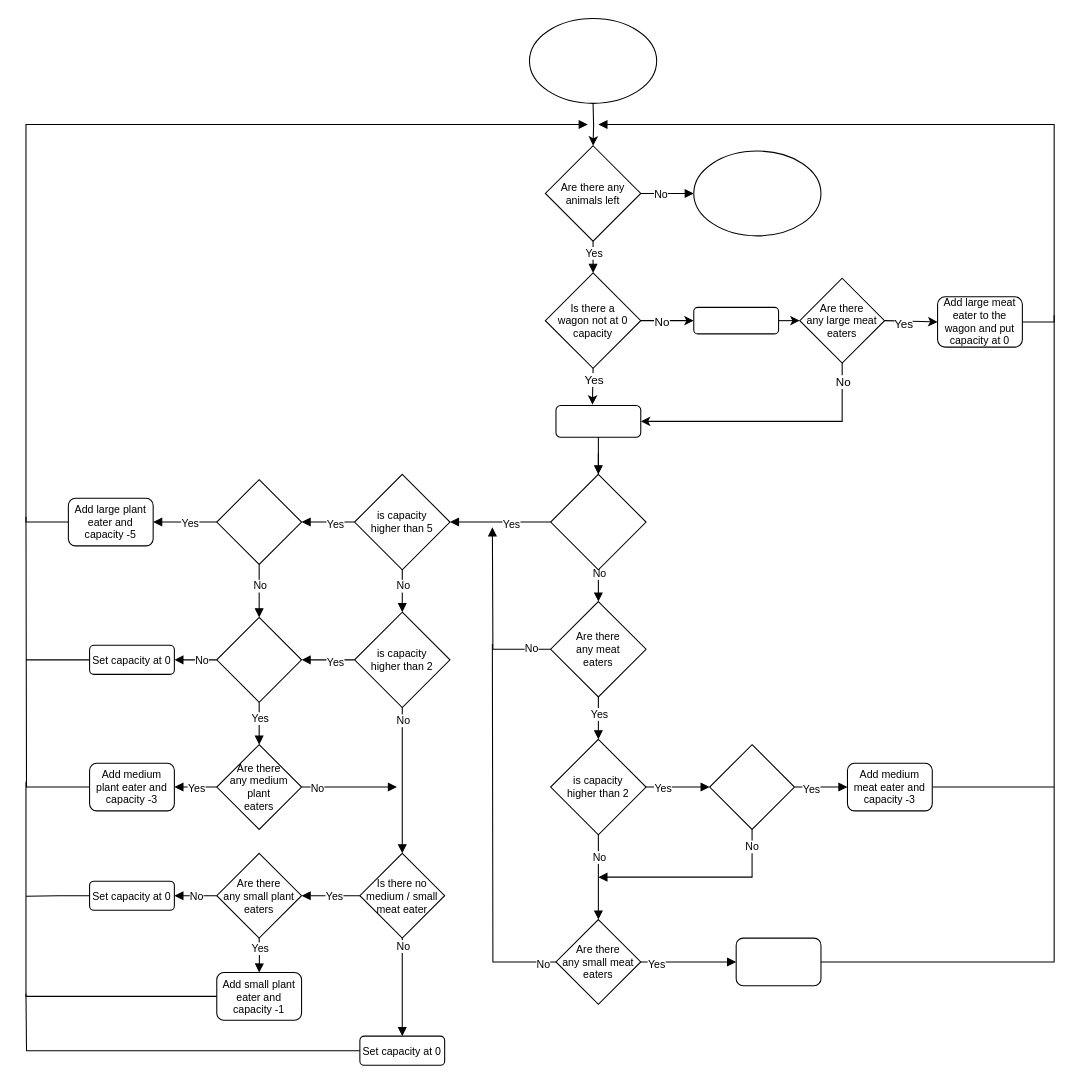
Some shapes in this 1081 by 1084 pixel diagram are drawn without their labels. Here are the shapes that lost their labels. From the top down, the centre of each, then its label:
(x=592, y=60): Start
(x=757, y=193): End
(x=736, y=320): Create wagon (capacity at 10)
(x=598, y=420): Use wagon
(x=259, y=521): Are there any large plant eaters
(x=598, y=521): Does wagon contain a meat eater
(x=259, y=659): Is there no medium meat eater
(x=751, y=786): Are there any medium meat eaters
(x=778, y=961): Add small meat eater and capacity -1
